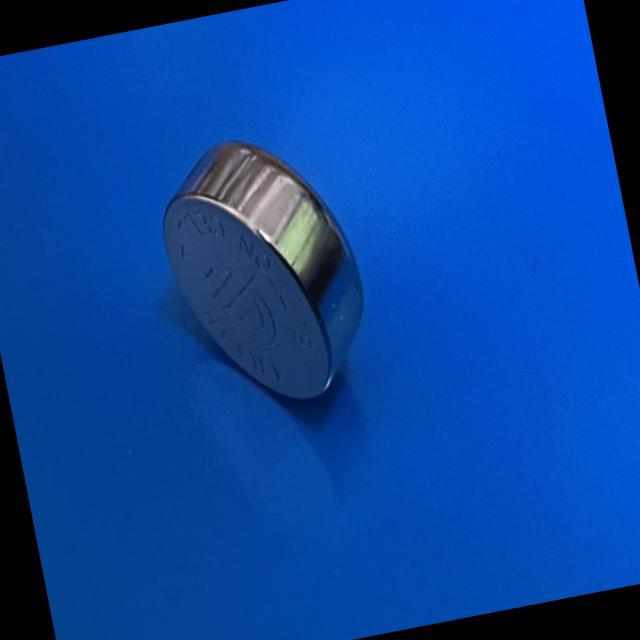COIN: (146, 120, 379, 424)
